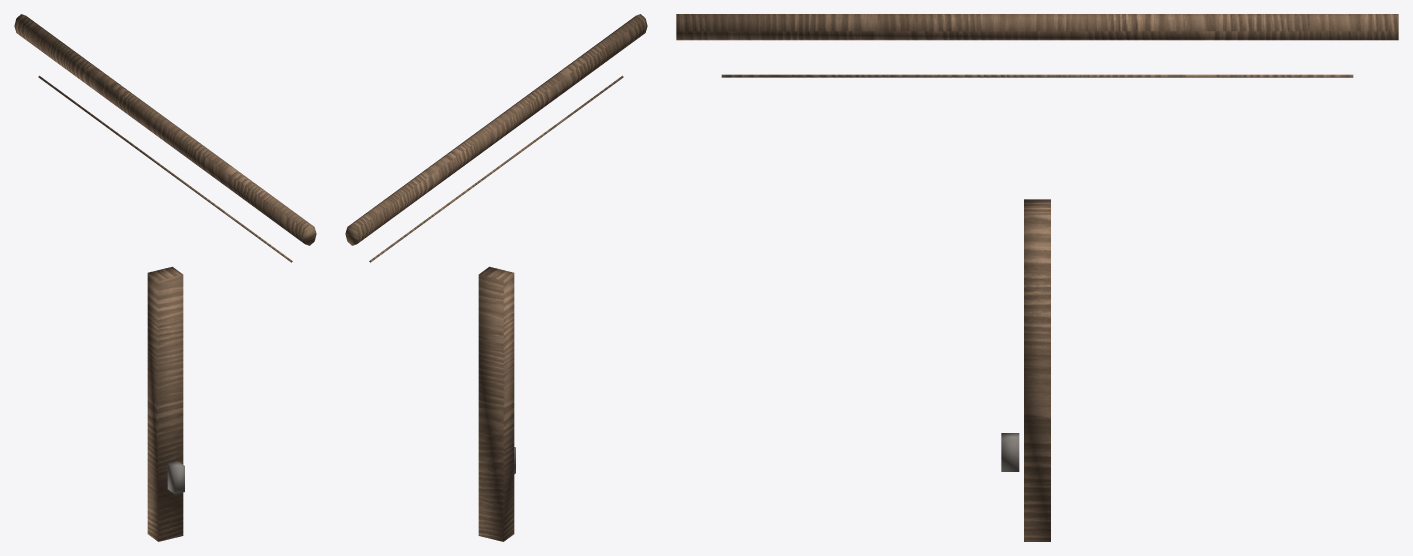
The model's file is crossbow.fbx.
The picture shows the model from 3 angles, left to right: view 1: azimuth 30°, elevation 25°; view 2: azimuth 150°, elevation 25°; view 3: azimuth 270°, elevation 25°; orthographic projection. The views are drawn at different scales.
Visible parts, largest first — view 1: crossbow; view 2: crossbow; view 3: crossbow.
Boxes of the visible parts, box(x1,y1,x2,y2) form: crossbow: box(14, 14, 316, 541); crossbow: box(345, 14, 647, 541); crossbow: box(676, 14, 1398, 541).
Bounding box in the file's own units: 0.02 × 0.318 × 0.4.
2 materials, 1 textured.
